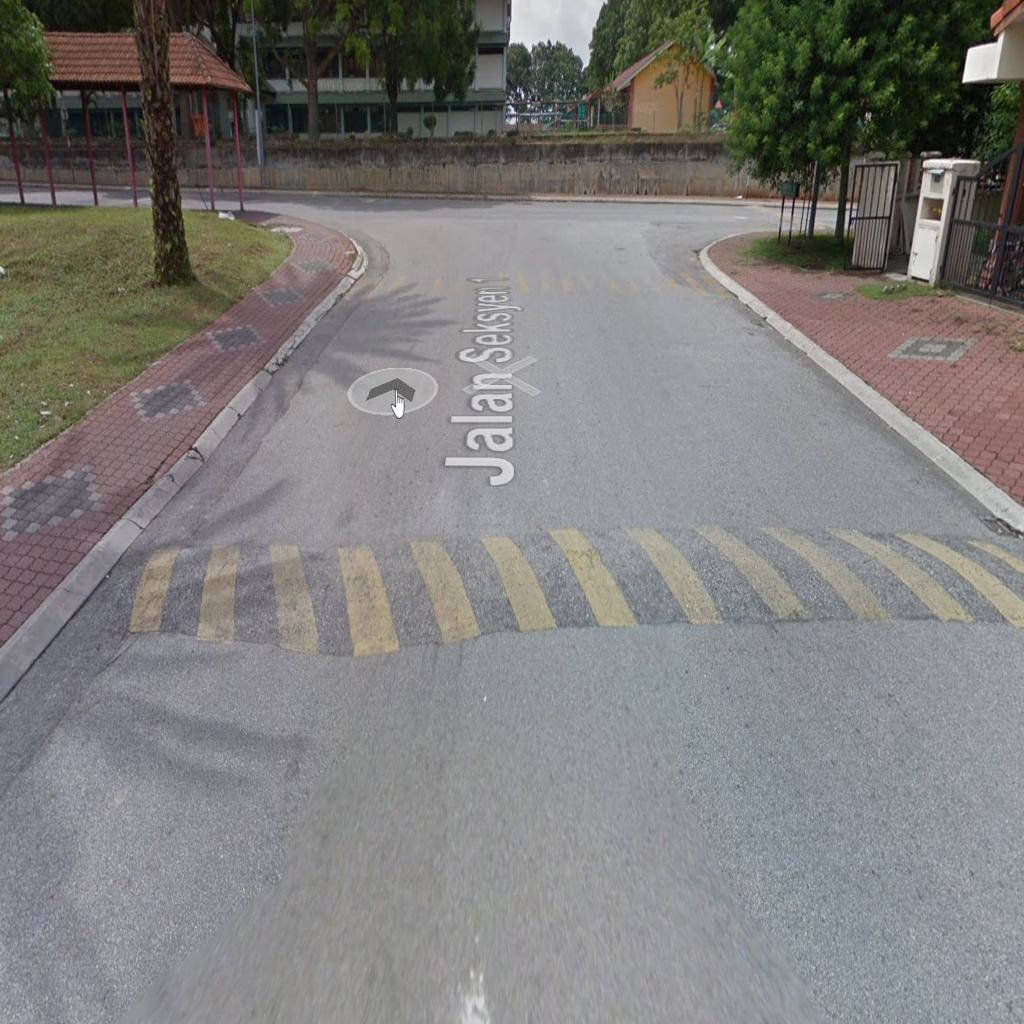Junction: (175, 133, 419, 292), (625, 141, 845, 286)
